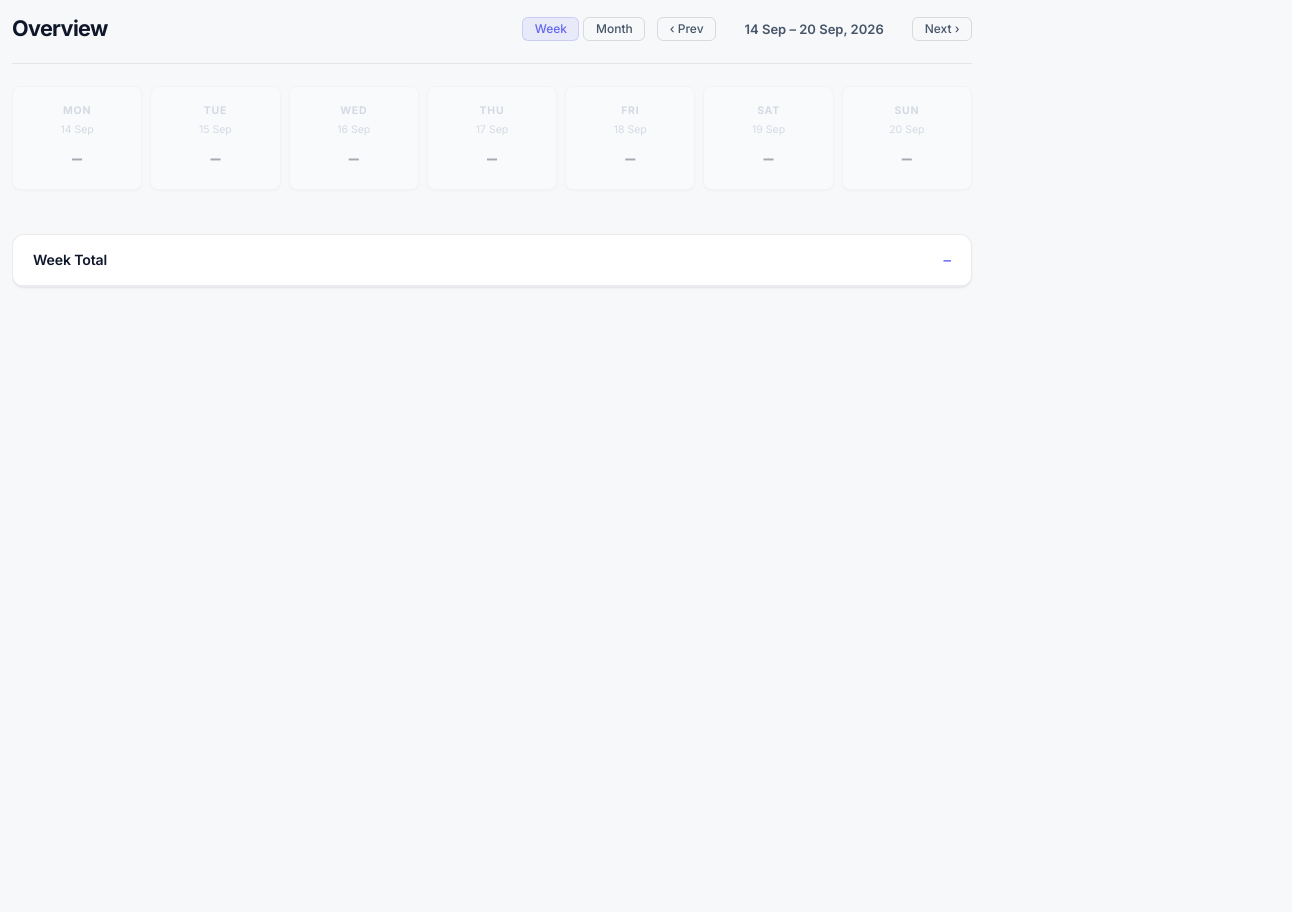
Test: OverviewPage — month view › clicking Month tab shows month-view grid
Step 1. Click the button with test id "view-tab-month" → x=614, y=29, box [584, 17, 645, 40]
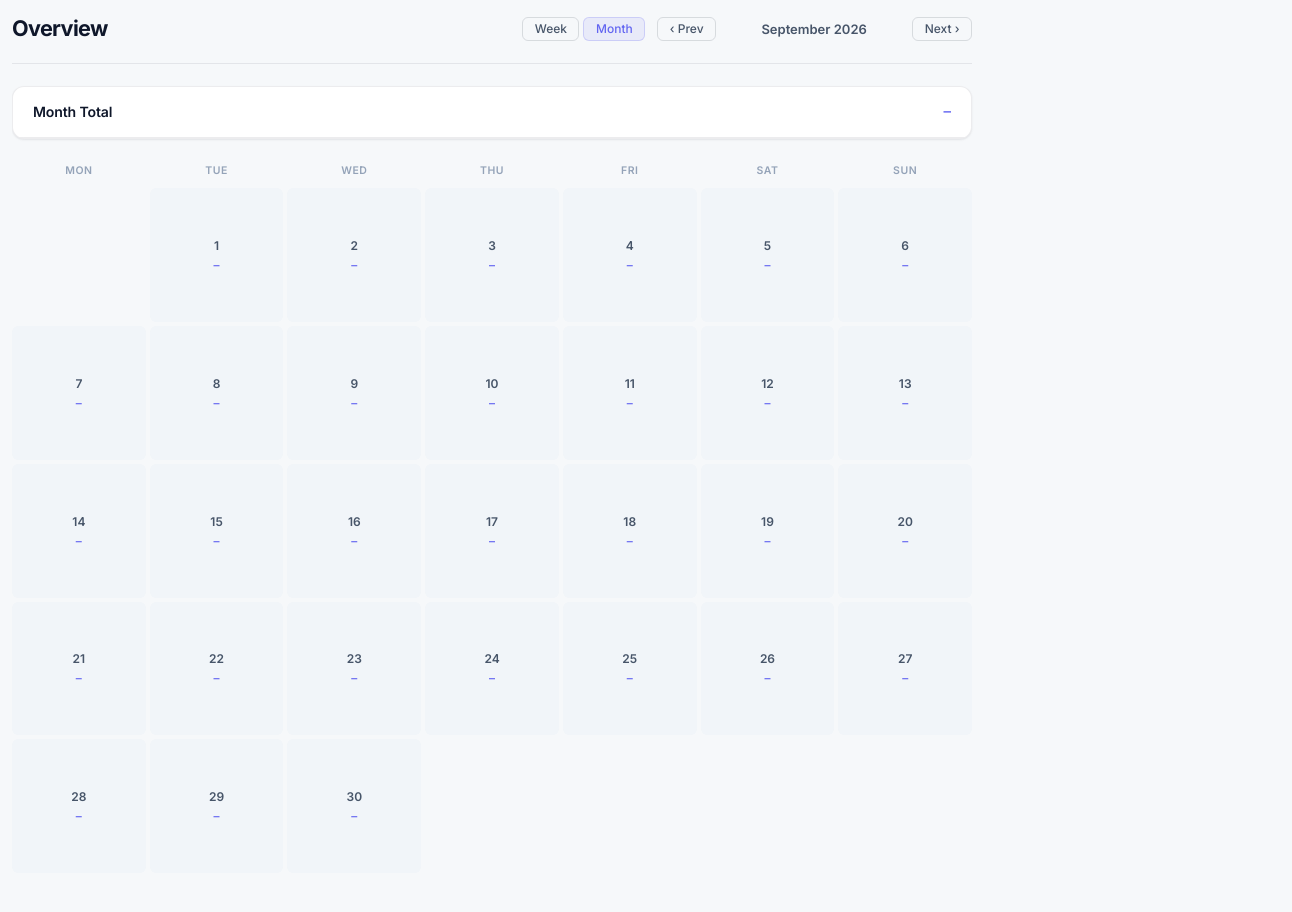
expect the element with test id "month-view" is shown: met, box [12, 159, 972, 873]
expect the element with test id "week-view" is gone: met
